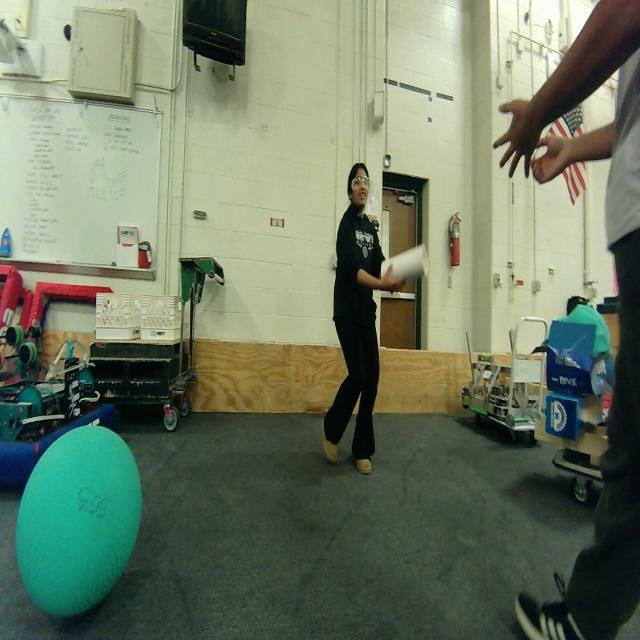algae: (10, 417, 143, 626)
coral: (381, 243, 428, 281)
